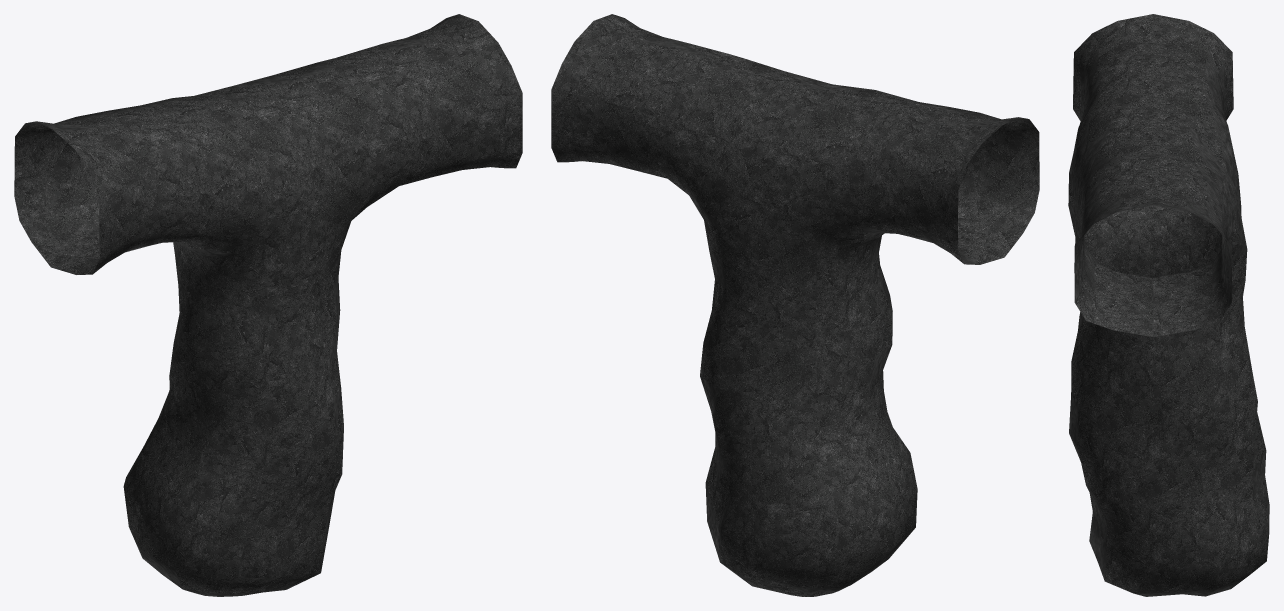
The model's file is CaveHallwayFloorPit.glb.
The picture shows the model from 3 angles, left to right: view 1: azimuth 30°, elevation 25°; view 2: azimuth 150°, elevation 25°; view 3: azimuth 270°, elevation 25°; orthographic projection. The views are drawn at different scales.
Visible parts, largest first — view 1: Cube.123; view 2: Cube.123; view 3: Cube.123.
Part boxes in pixels (bbox=[...]): Cube.123: bbox=[14, 14, 522, 596]; Cube.123: bbox=[551, 14, 1039, 596]; Cube.123: bbox=[1068, 14, 1269, 596].
Size of the model in its own units: 22.58 by 26.14 by 9.7.
1 material, 1 textured.
